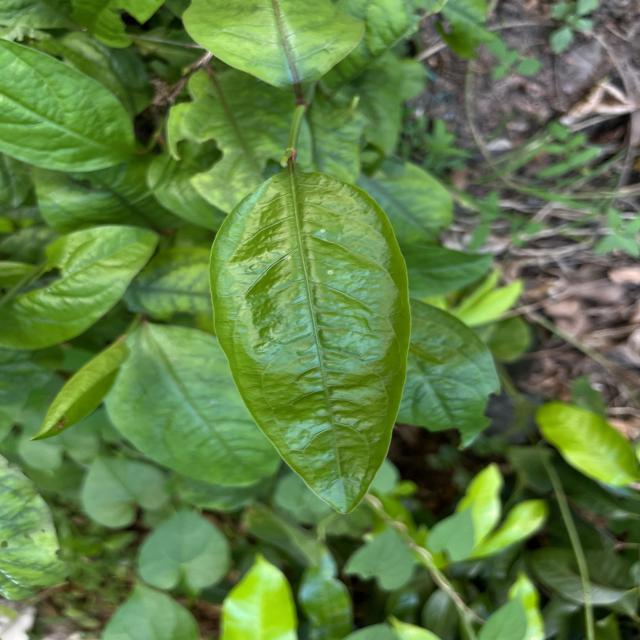Plumbago indica: (202, 162, 420, 522), (98, 315, 282, 492), (0, 222, 162, 358), (0, 39, 142, 178)
